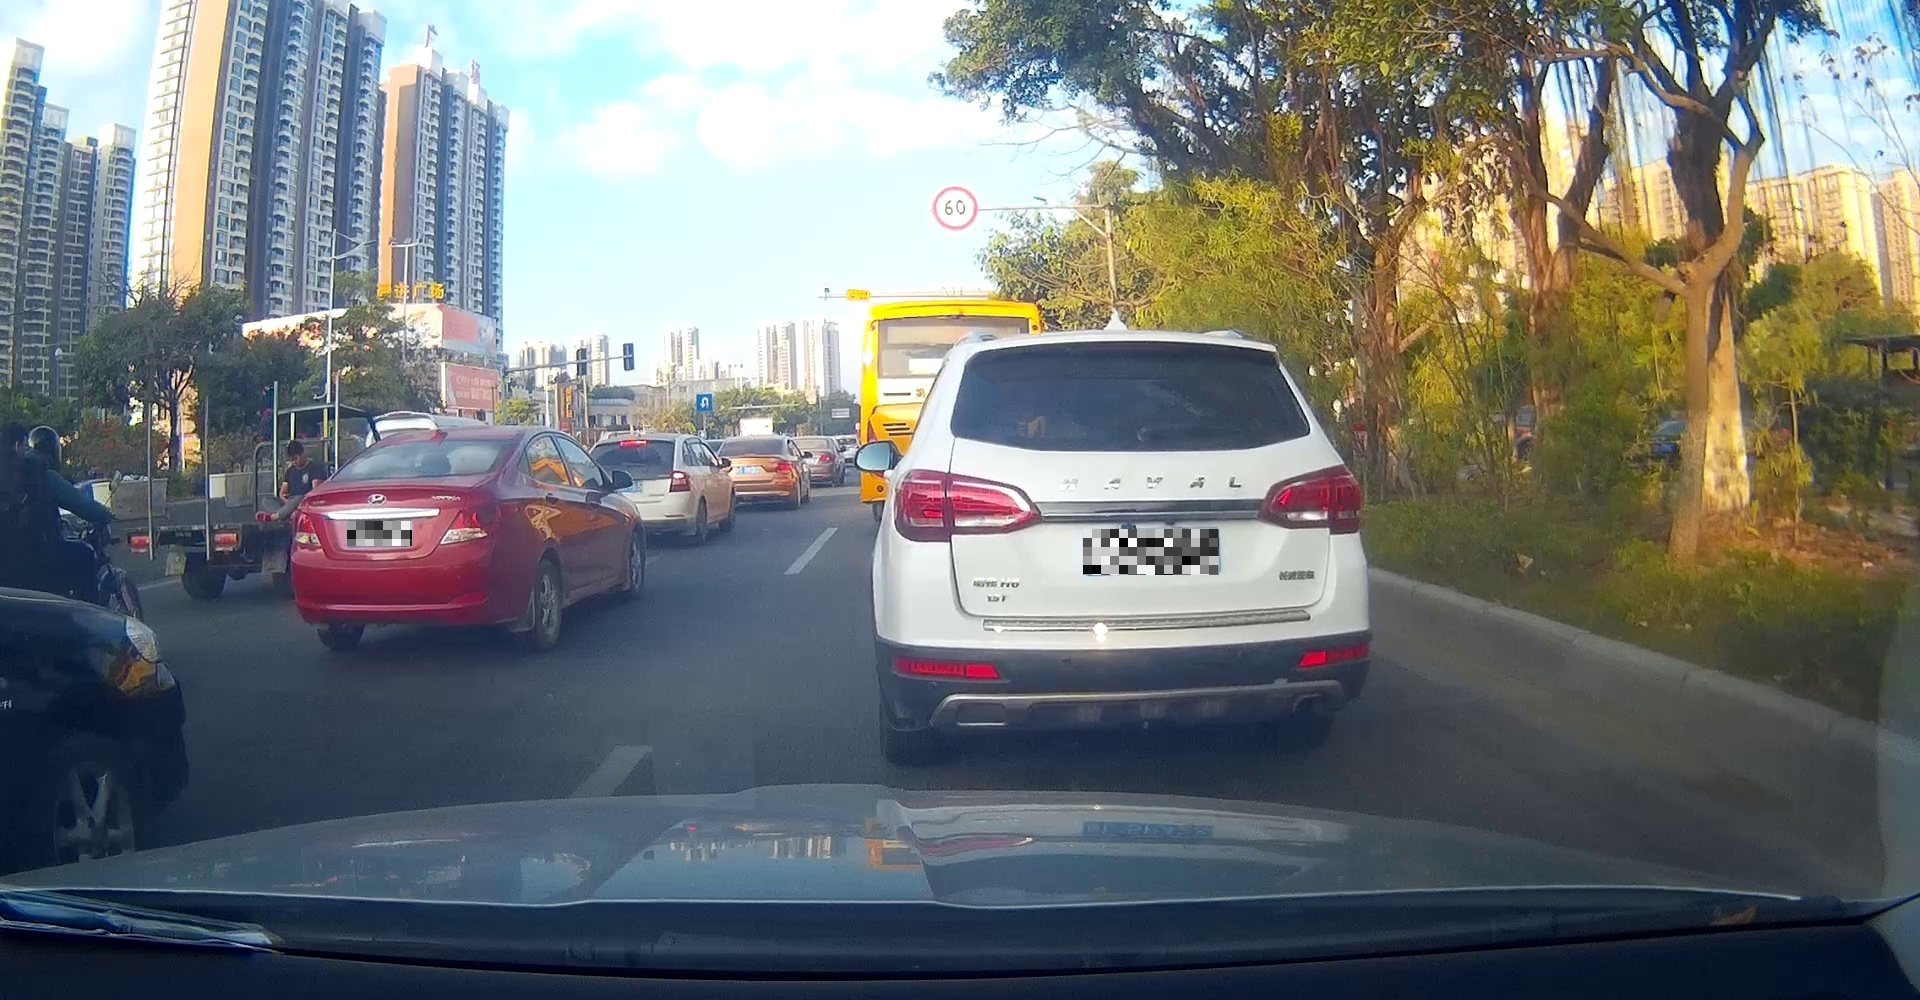L_light: (893, 468, 1043, 542), (295, 511, 323, 548)
R_light: (1256, 464, 1363, 534), (439, 503, 521, 543)
T_light: (1109, 341, 1153, 350), (428, 442, 450, 448)
day-no: (871, 330, 1371, 765), (290, 428, 523, 655)
plate_1: (347, 522, 411, 546)
plate_2: (1083, 529, 1219, 575)
